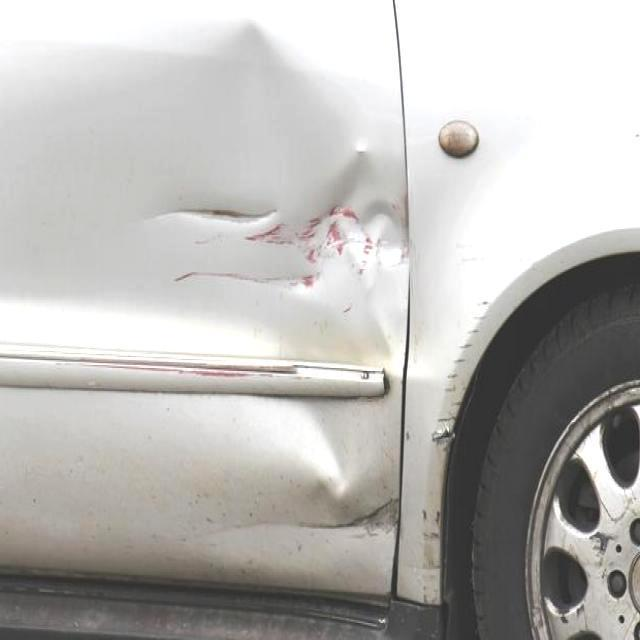minor: (266, 404, 378, 496), (126, 372, 248, 391)
moderate: (112, 7, 409, 357), (205, 362, 238, 368)
severe: (281, 489, 399, 542)
